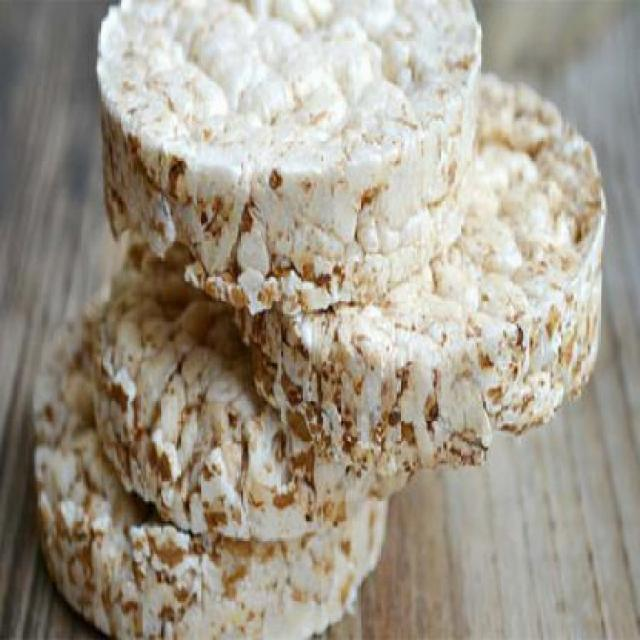Gallette di riso packaged: (30, 1, 602, 634)
